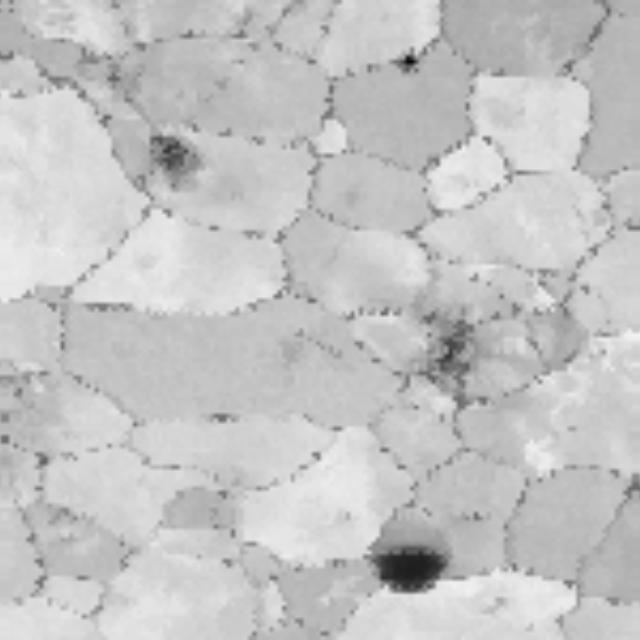good_void: (411, 297, 483, 420), (138, 118, 208, 192), (367, 546, 457, 598), (97, 56, 149, 113), (386, 52, 433, 92), (478, 596, 515, 623), (193, 408, 246, 425)
